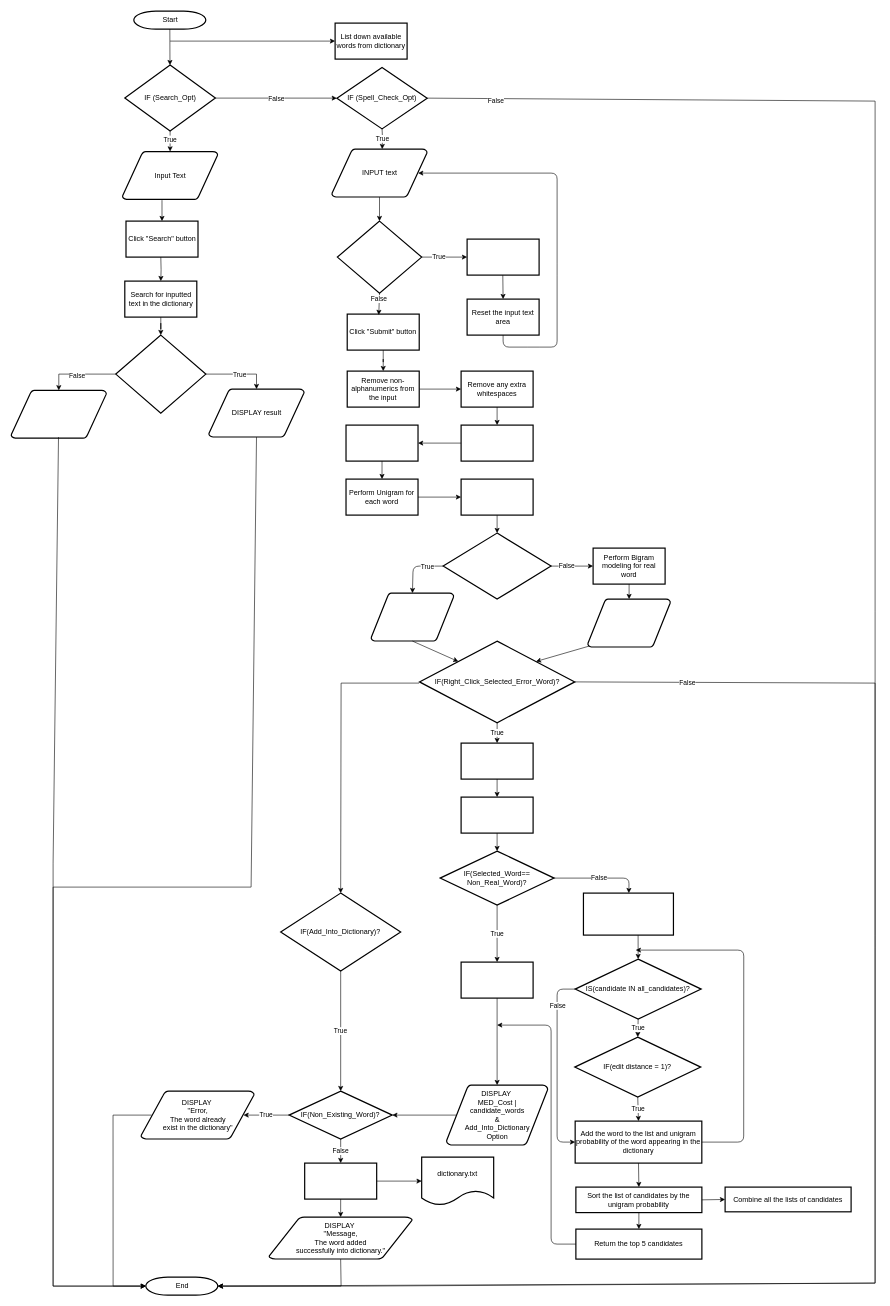
Image size: 890x1306. Some labels were removed from this diagram. The box of each missing label's shape, as (x1, y1, x2, y2) in pixels:
Apply Damareu-levenshtein edit distance algorithm: (460, 742, 533, 779)
Change letters to lowercase: (460, 424, 533, 461)
Click "Clear" button: (466, 238, 539, 275)
Create a list of candidates that are within the edit distance threshold: (583, 892, 674, 935)
DISPLAY "Not found, No such keyword(s).": (10, 389, 107, 439)
DISPLAY mispelled Non_Real_Word: (370, 592, 454, 641)
DISPLAY mispelled/correct Real_Word: (587, 598, 671, 647)
Get a sorted listed of edit distances for each word: (460, 796, 533, 833)
Get top 5 candidate words from dictionary: (460, 961, 533, 998)
IF (Clear_Opt): (336, 220, 422, 293)
IF(Non_Real_Word)?: (442, 532, 551, 599)
IF(WORD_FOUND): (115, 334, 206, 413)
Perform Bigram for each word: (460, 478, 533, 515)
Spell checking for each word: (345, 424, 418, 461)
Store the highlighted word into dictionary: (304, 1162, 377, 1199)
